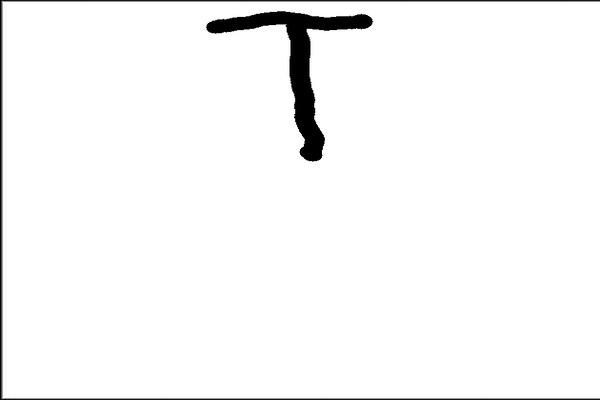T: (204, 6, 371, 163)
